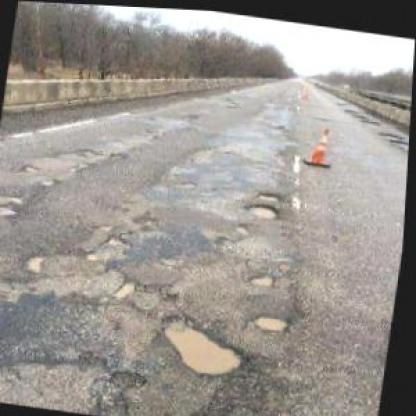pothole: (160, 309, 255, 377), (100, 363, 155, 415), (64, 143, 126, 166), (255, 308, 297, 331), (247, 198, 284, 219), (115, 276, 140, 301), (25, 252, 50, 274), (251, 268, 280, 286), (107, 231, 136, 247), (258, 184, 286, 200), (0, 201, 24, 216), (1, 193, 28, 204), (179, 176, 202, 187), (88, 247, 106, 261), (22, 162, 42, 174), (42, 175, 61, 187)
